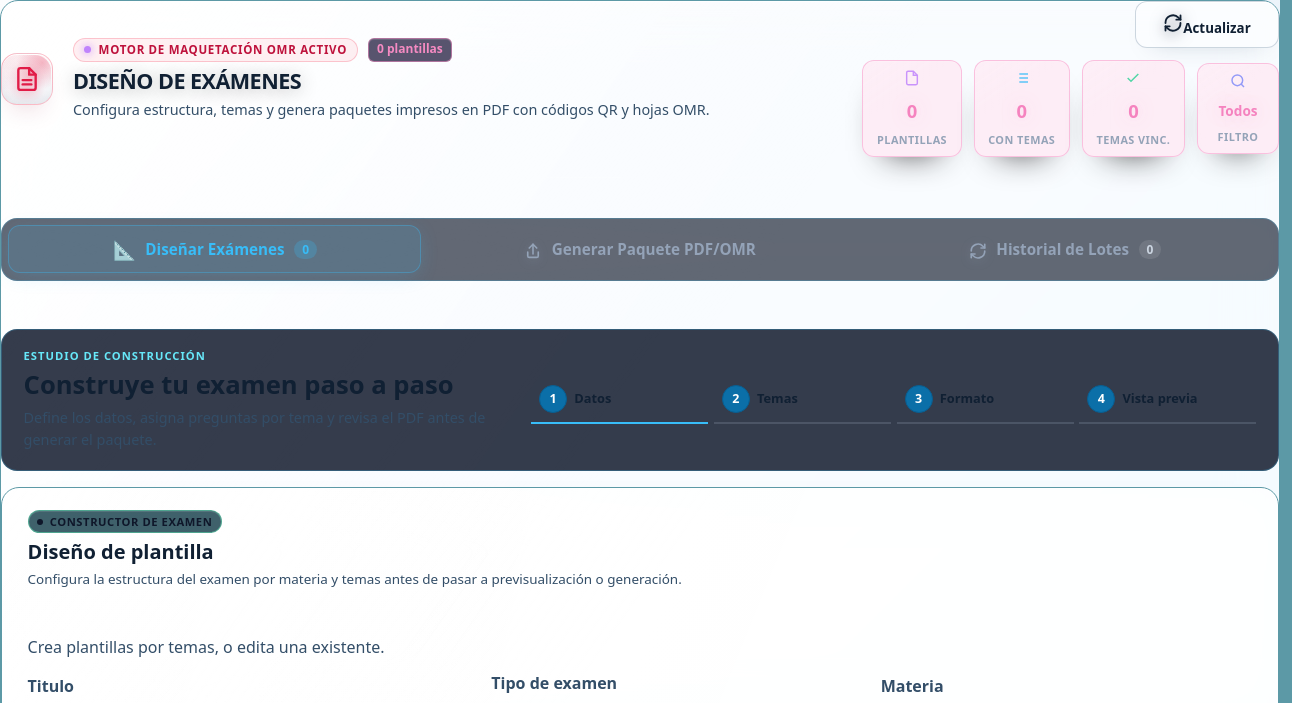
Test case: plantillas refactor y navegación por pestañas (SPEC-034) › bloquea crear y generar cuando faltan permisos de gestión/generación
En pestaña de generación
What coordinates should you click on to do the following:
click the tab "Generar Paquete PDF/OMR"
I would click on:
 (640, 249)
Its box is [434, 225, 847, 273].
(page scrolled)
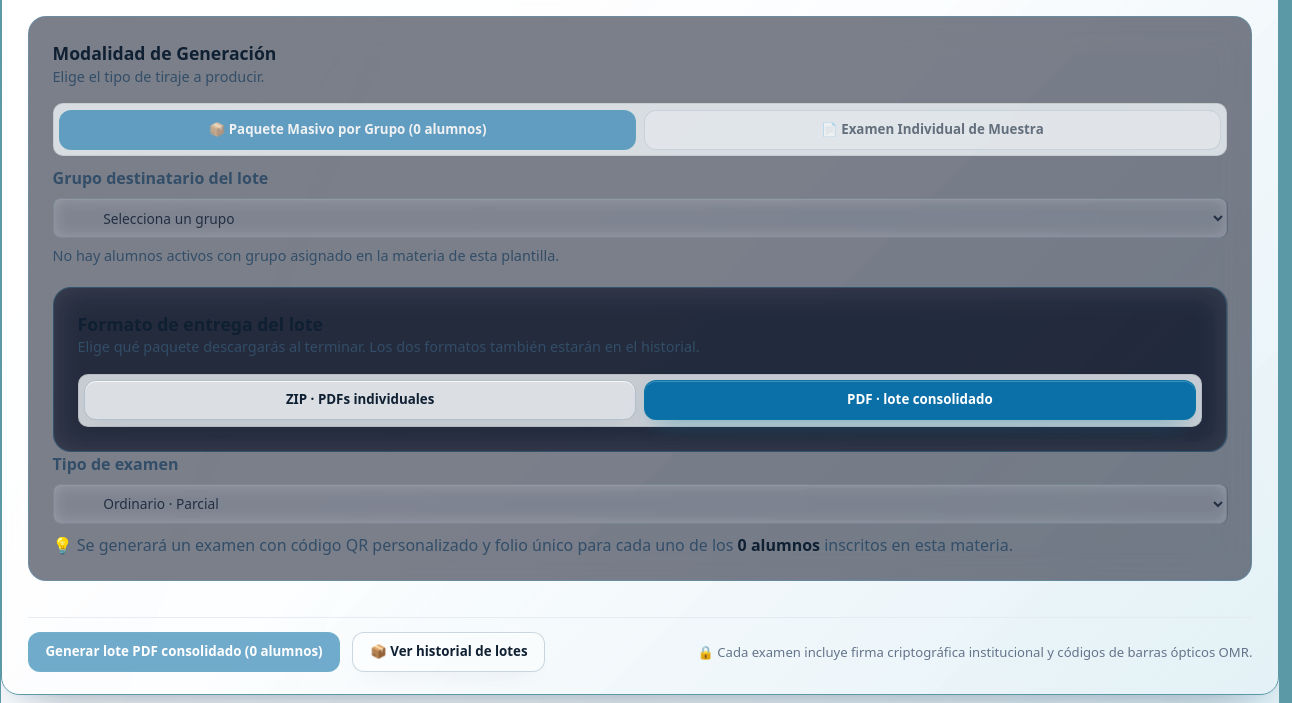
expect the button "Generar lote PDF consolidado (0 alumnos)" is disabled: met, box [28, 632, 340, 672]
